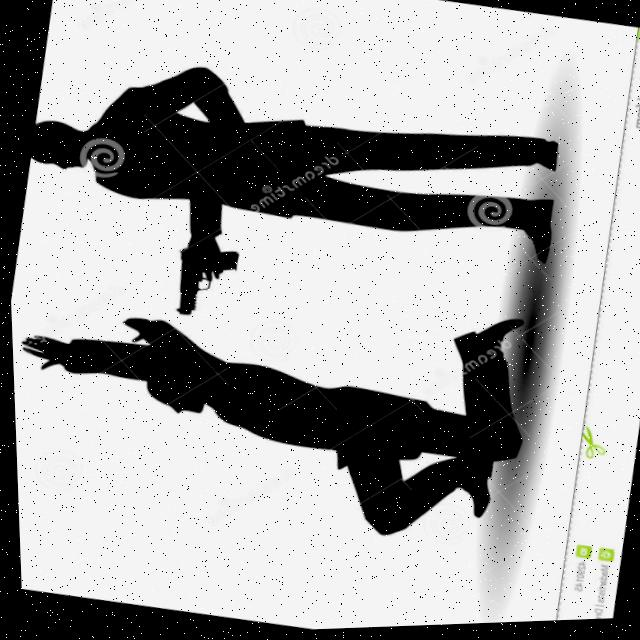pistol: (165, 243, 238, 324)
